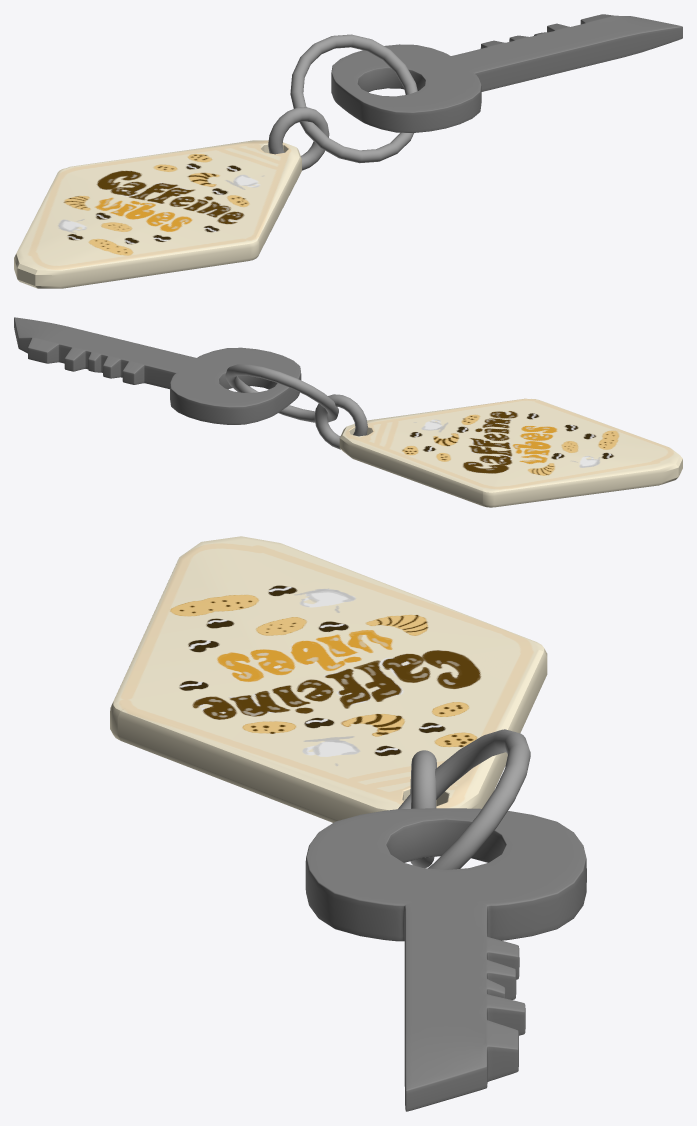
Rendered from inspector.fbx.
The picture shows the model from 3 angles, top to bottom: view 1: azimuth 30°, elevation 25°; view 2: azimuth 150°, elevation 25°; view 3: azimuth 270°, elevation 25°; orthographic projection. The views are drawn at different scales.
Visible parts, largest first — view 1: Llabe_Almacen2; view 2: Llabe_Almacen2; view 3: Llabe_Almacen2.
Part boxes in pixels (left/top/right/bottom): Llabe_Almacen2: left=14, top=14, right=682, bottom=288; Llabe_Almacen2: left=14, top=317, right=682, bottom=507; Llabe_Almacen2: left=110, top=536, right=586, bottom=1111.
Bounding box in the file's own units: 14.83 × 1.96 × 4.92.
3 materials, 1 textured.
